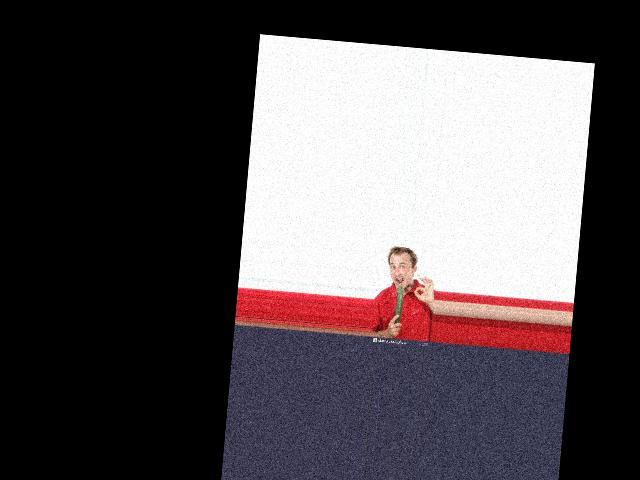cucumber: (394, 285, 403, 323)
